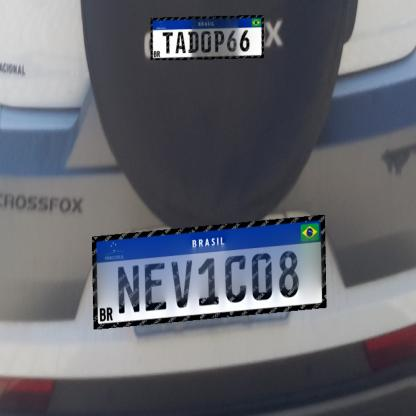PlacaM: (92, 215, 327, 329), (150, 15, 264, 60)
